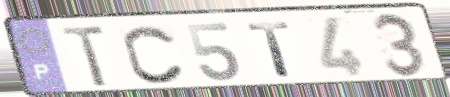3: (372, 10, 427, 80)
4: (317, 14, 368, 81)
5: (184, 21, 243, 83)
C: (121, 23, 188, 86)
T: (59, 24, 111, 89), (244, 20, 295, 79)
